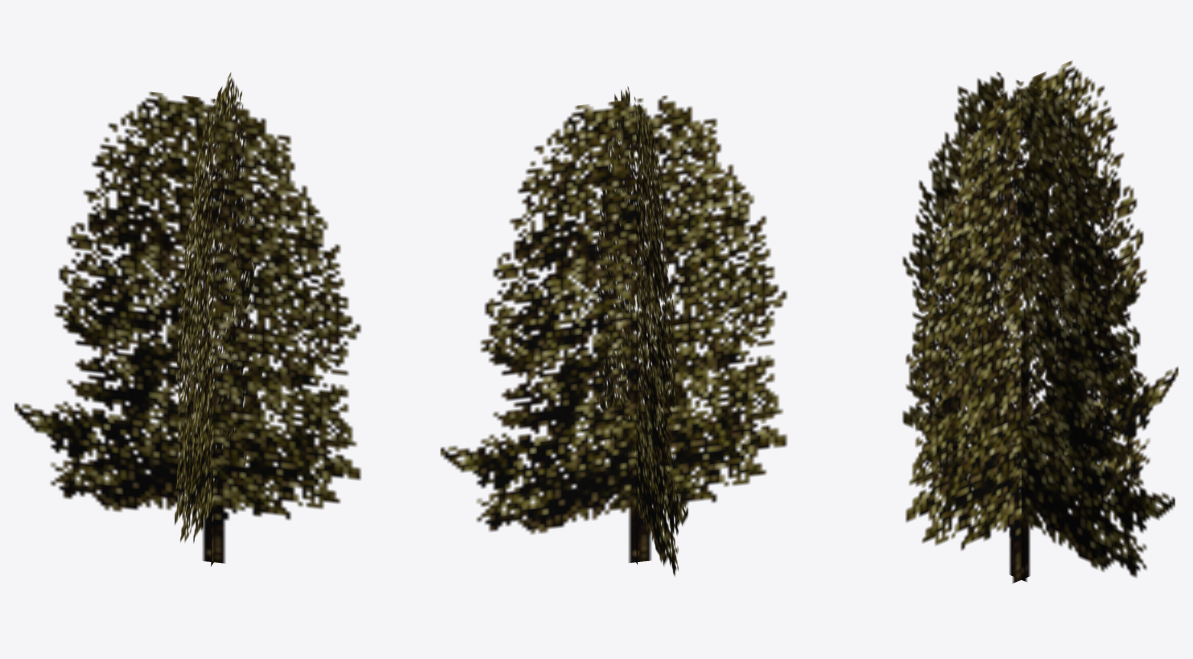
Rendered from tree091.glb.
The picture shows the model from 3 angles, left to right: view 1: azimuth 30°, elevation 25°; view 2: azimuth 150°, elevation 25°; view 3: azimuth 270°, elevation 25°; orthographic projection. The views are drawn at different scales.
Parts seen in each view (by area): view 1: tree091; view 2: tree091; view 3: tree091.
Boxes of the visible parts, left/top/right/bottom form: tree091: left=14, top=72, right=361, bottom=566; tree091: left=440, top=86, right=787, bottom=575; tree091: left=902, top=61, right=1178, bottom=583.
Size of the model in its own units: 1.86 by 3.35 by 1.86.
Materials: 1 (1 with a texture image).
